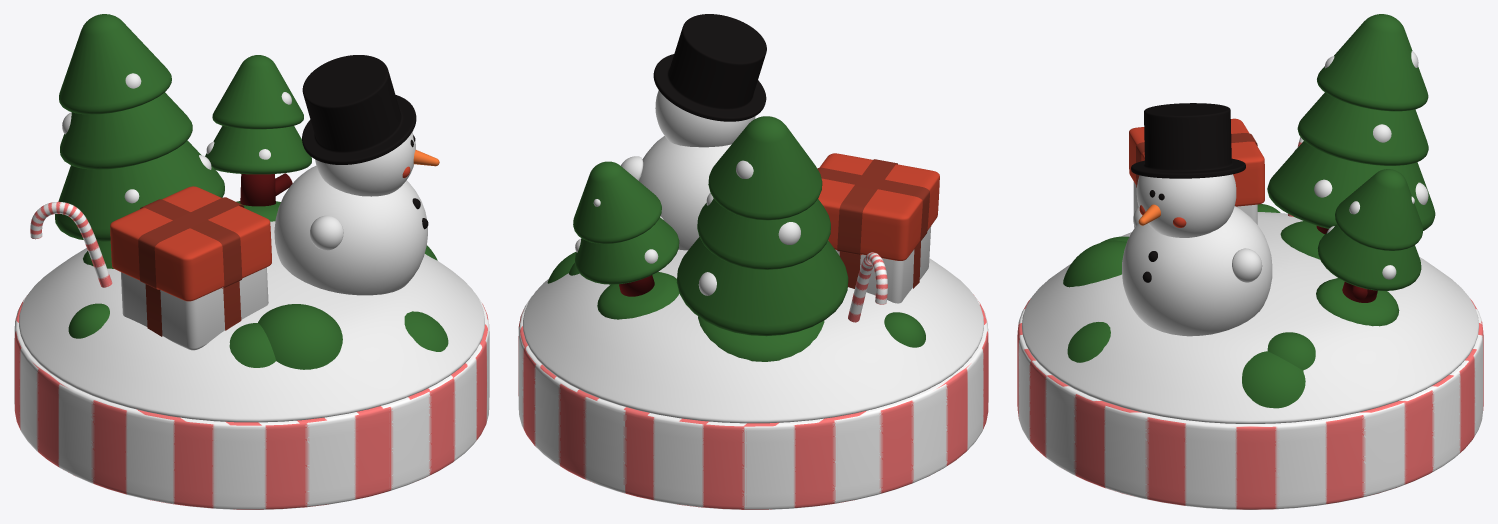
3 renders of one model, left to right at view 1: azimuth 30°, elevation 25°; view 2: azimuth 150°, elevation 25°; view 3: azimuth 270°, elevation 25°, orthographic.
Visible parts, largest first — view 1: 柱体.019, 球体.020, 棱角球.002, 柱体.025, 立方体.007, 柱体.015, 柱体.017, 柱体.016, 立方体.006, 柱体.020, 球体.033, 柱体.021 (+11 smaller); view 2: 柱体.019, 球体.020, 柱体.017, 柱体.025, 柱体.015, 立方体.007, 柱体.016, 棱角球.002, 柱体.020, 柱体.021, 棱角球.003, 球体.019 (+6 smaller); view 3: 球体.020, 柱体.019, 棱角球.002, 柱体.015, 柱体.025, 柱体.016, 柱体.017, 柱体.020, 棱角球.003, 柱体.021, 球体.034, 立方体.007 (+6 smaller).
Boxes of the visible parts, x1=… form: 柱体.019: x1=14, y1=291, x2=489, y2=509; 球体.020: x1=19, y1=221, x2=484, y2=422; 棱角球.002: x1=274, y1=166, x2=427, y2=295; 柱体.025: x1=302, y1=55, x2=416, y2=164; 立方体.007: x1=110, y1=186, x2=271, y2=301; 柱体.015: x1=59, y1=14, x2=171, y2=114; 柱体.017: x1=55, y1=140, x2=224, y2=241; 柱体.016: x1=60, y1=92, x2=192, y2=169; 立方体.006: x1=121, y1=267, x2=268, y2=350; 柱体.020: x1=212, y1=55, x2=303, y2=129; 球体.033: x1=258, y1=304, x2=342, y2=369; 柱体.021: x1=205, y1=125, x2=311, y2=174; 柱体.019: x1=518, y1=294, x2=988, y2=509; 球体.020: x1=523, y1=249, x2=983, y2=423; 柱体.017: x1=676, y1=237, x2=848, y2=336; 柱体.025: x1=653, y1=14, x2=766, y2=121; 柱体.015: x1=708, y1=116, x2=822, y2=220; 立方体.007: x1=818, y1=153, x2=939, y2=260; 柱体.016: x1=697, y1=198, x2=830, y2=269; 棱角球.002: x1=639, y1=136, x2=731, y2=250; 柱体.020: x1=573, y1=161, x2=661, y2=244; 柱体.021: x1=575, y1=217, x2=679, y2=284; 棱角球.003: x1=655, y1=90, x2=755, y2=147; 球体.019: x1=698, y1=316, x2=824, y2=361; 球体.020: x1=1022, y1=212, x2=1478, y2=423; 柱体.019: x1=1017, y1=298, x2=1483, y2=509; 棱角球.002: x1=1122, y1=206, x2=1272, y2=336; 柱体.015: x1=1317, y1=14, x2=1428, y2=111; 柱体.025: x1=1131, y1=103, x2=1245, y2=178; 柱体.016: x1=1297, y1=92, x2=1428, y2=165; 柱体.017: x1=1267, y1=141, x2=1435, y2=230; 柱体.020: x1=1335, y1=169, x2=1422, y2=250; 棱角球.003: x1=1136, y1=174, x2=1236, y2=237; 柱体.021: x1=1317, y1=224, x2=1421, y2=290; 球体.034: x1=1242, y1=351, x2=1305, y2=408; 立方体.007: x1=1129, y1=118, x2=1264, y2=206.
Size of the model in its own units: 3.97 by 3.37 by 3.97.
Materials: 10 (1 with a texture image).
